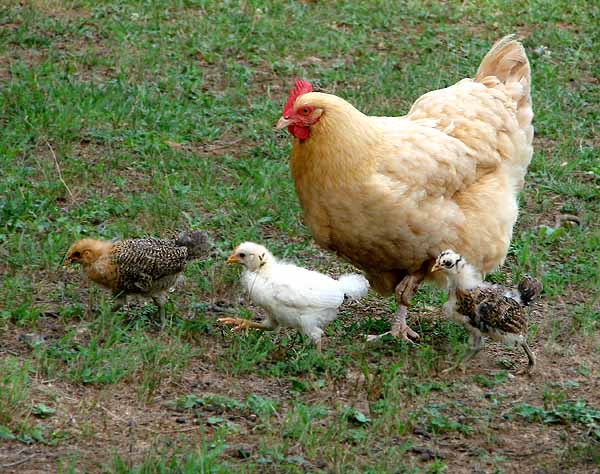chicken: (283, 37, 533, 342), (221, 237, 370, 372), (429, 243, 545, 387), (64, 220, 207, 327)
